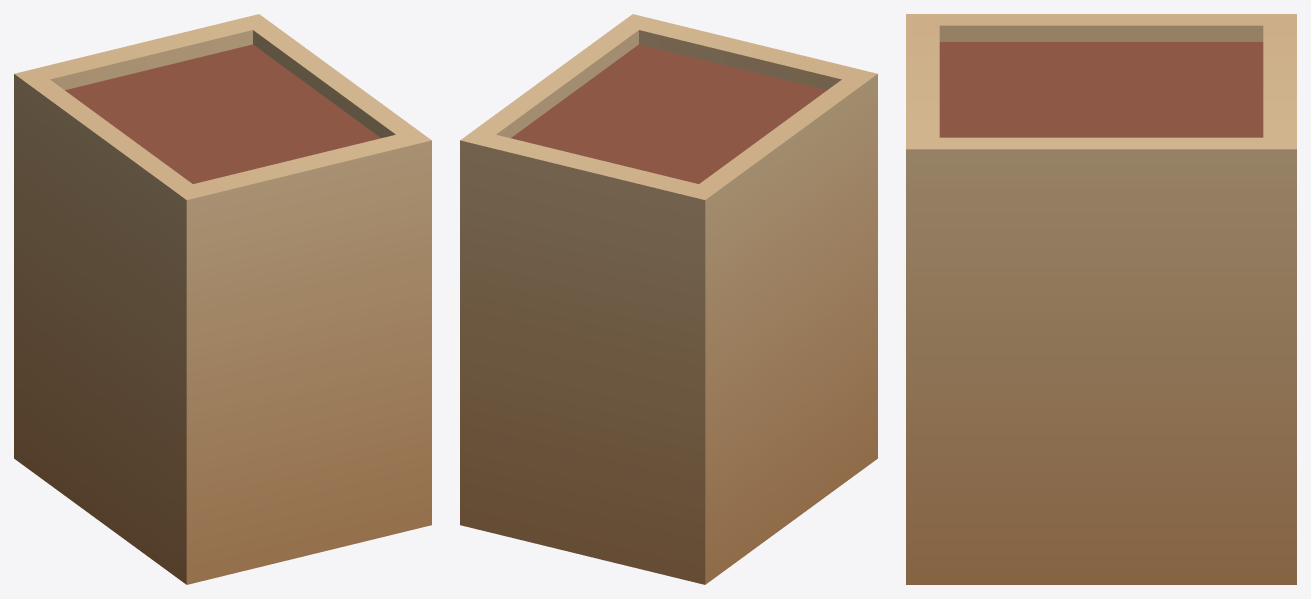
File: LargeHouse02.fbx
The picture shows the model from 3 angles, left to right: view 1: azimuth 30°, elevation 25°; view 2: azimuth 150°, elevation 25°; view 3: azimuth 270°, elevation 25°; orthographic projection. The views are drawn at different scales.
Parts seen in each view (by area): view 1: LargeHouse02; view 2: LargeHouse02; view 3: LargeHouse02.
Boxes of the visible parts, x1,y1,x2,y2 form: LargeHouse02: [14, 14, 431, 584]; LargeHouse02: [460, 14, 877, 584]; LargeHouse02: [906, 14, 1296, 584].
Size of the model in its own units: 2 by 3 by 2.44.
Materials: 1 (1 with a texture image).
